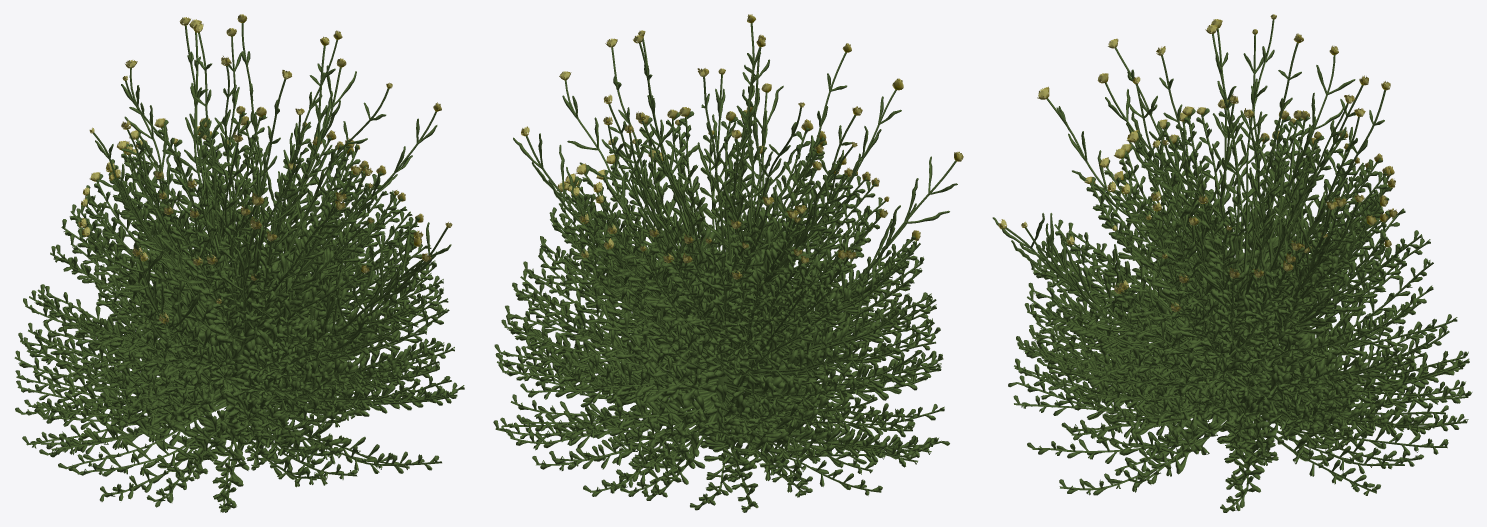
Rendered from Santolina.glb.
The picture shows the model from 3 angles, left to right: view 1: azimuth 30°, elevation 25°; view 2: azimuth 150°, elevation 25°; view 3: azimuth 270°, elevation 25°; orthographic projection.
Visible parts, largest first — view 1: AM_154_053_Santolina; view 2: AM_154_053_Santolina; view 3: AM_154_053_Santolina.
Part boxes in pixels (x1,y1,x2,y2): AM_154_053_Santolina: (14,14,464,512); AM_154_053_Santolina: (493,14,963,512); AM_154_053_Santolina: (992,14,1472,512).
Size of the model in its own units: 0.3811 by 0.3797 by 0.3982.
2 materials, 2 textured.
